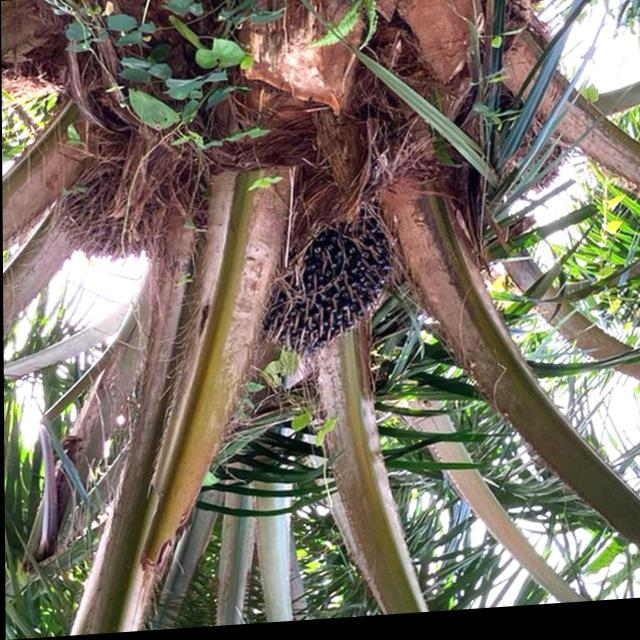unripe: (249, 190, 416, 372)
